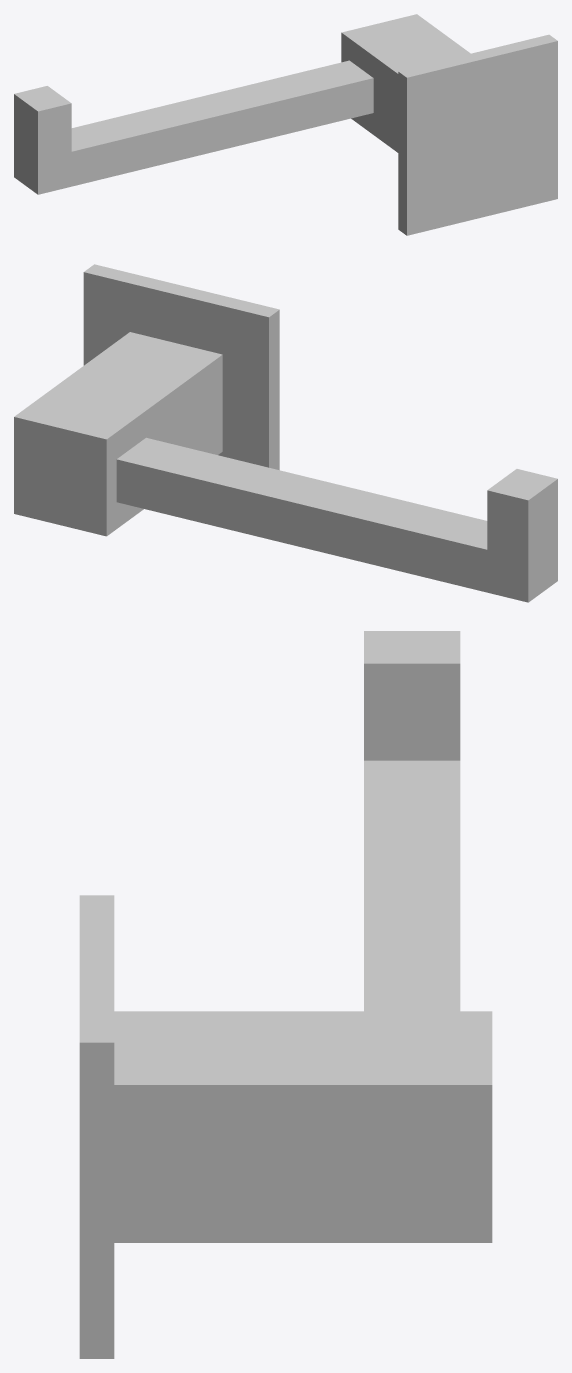
File: TissueHanger01.fbx
3 views of the same model, one above another, from view 1: azimuth 30°, elevation 25°; view 2: azimuth 150°, elevation 25°; view 3: azimuth 270°, elevation 25° (orthographic). The views are drawn at different scales.
Parts seen in each view (by area): view 1: TissueHanger01; view 2: TissueHanger01; view 3: TissueHanger01.
Part boxes in pixels (bbox=[...]): TissueHanger01: bbox=[14, 14, 557, 235]; TissueHanger01: bbox=[14, 264, 557, 602]; TissueHanger01: bbox=[79, 631, 492, 1358].
Bounding box in the file's own units: 28.52 × 9.6 × 11.37.
